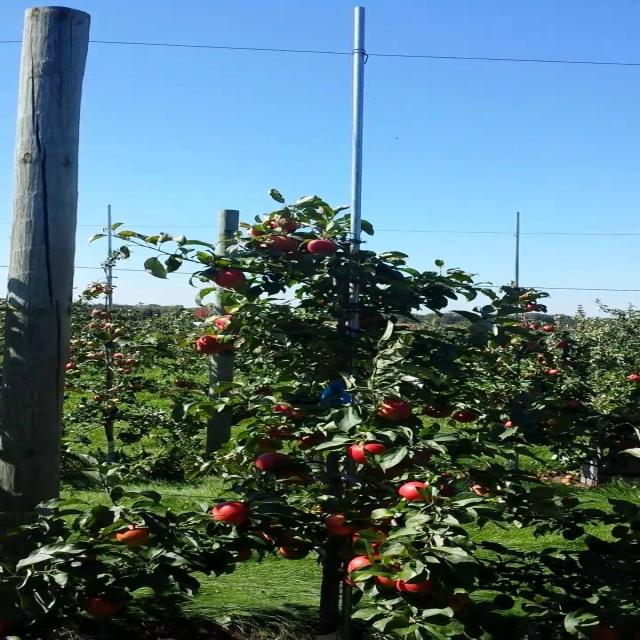apple: (348, 444, 389, 465), (355, 528, 391, 551), (376, 400, 412, 421), (212, 504, 249, 524), (84, 600, 121, 618), (262, 524, 295, 544), (326, 516, 356, 536), (369, 528, 391, 555), (255, 456, 292, 472), (262, 236, 299, 252), (198, 336, 226, 356), (120, 528, 151, 546), (397, 580, 434, 595), (397, 484, 427, 501), (220, 272, 249, 288), (312, 240, 341, 256), (426, 404, 453, 420), (284, 472, 315, 485), (284, 544, 309, 560), (348, 556, 372, 572), (269, 220, 299, 232), (298, 436, 327, 447), (454, 412, 478, 424), (596, 628, 620, 640), (269, 428, 293, 440), (412, 452, 434, 465), (468, 484, 491, 496), (255, 440, 276, 453), (447, 596, 469, 608), (284, 408, 306, 420), (376, 468, 405, 477), (376, 576, 396, 588), (220, 316, 235, 331), (278, 404, 295, 416), (234, 552, 252, 563), (362, 316, 384, 325), (198, 308, 213, 319), (442, 488, 455, 497), (348, 576, 356, 588), (248, 232, 263, 237)
